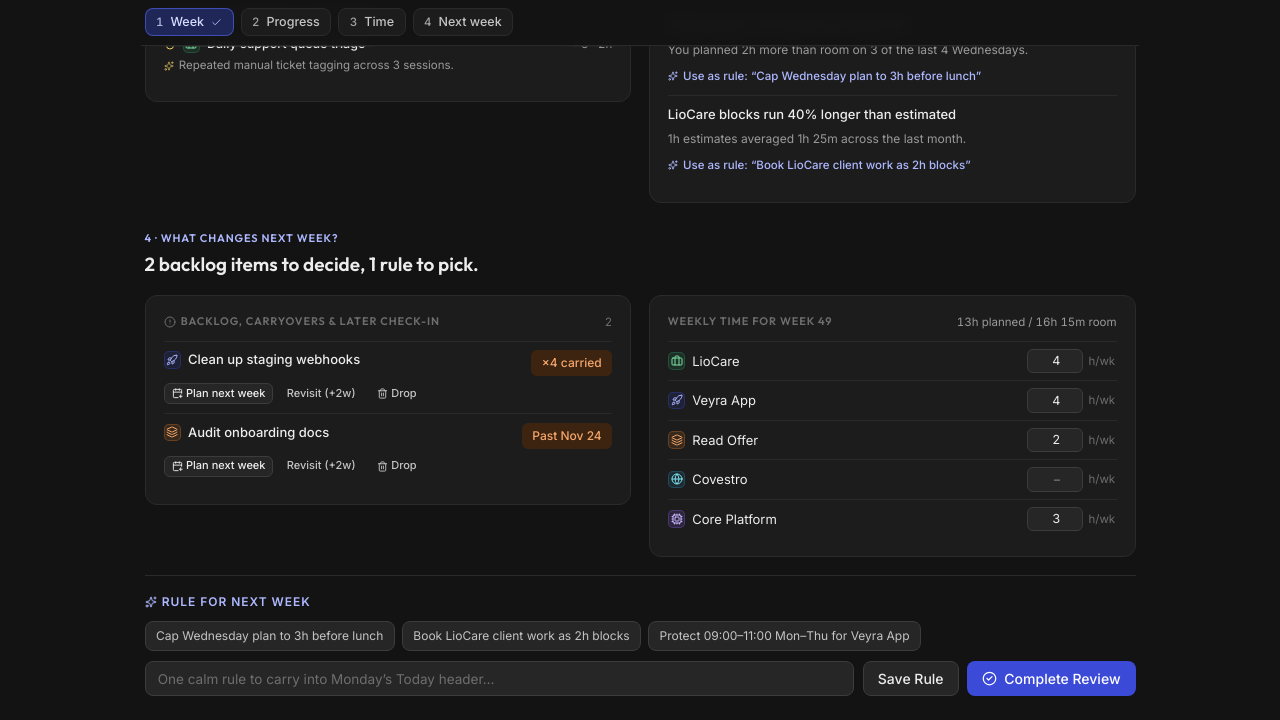
4-chapter ReviewView & Settings review.completed toggle › ReviewView edits next-week project weekly time inline, picks a suggested rule directly on canvas, and completes review into Completed & Auto-Synced state with C
(page scrolled)
Replace the text in the number field named "Weekly time hours for LioCare" with "5": (1055, 361) 1027,349 -> 1083,373
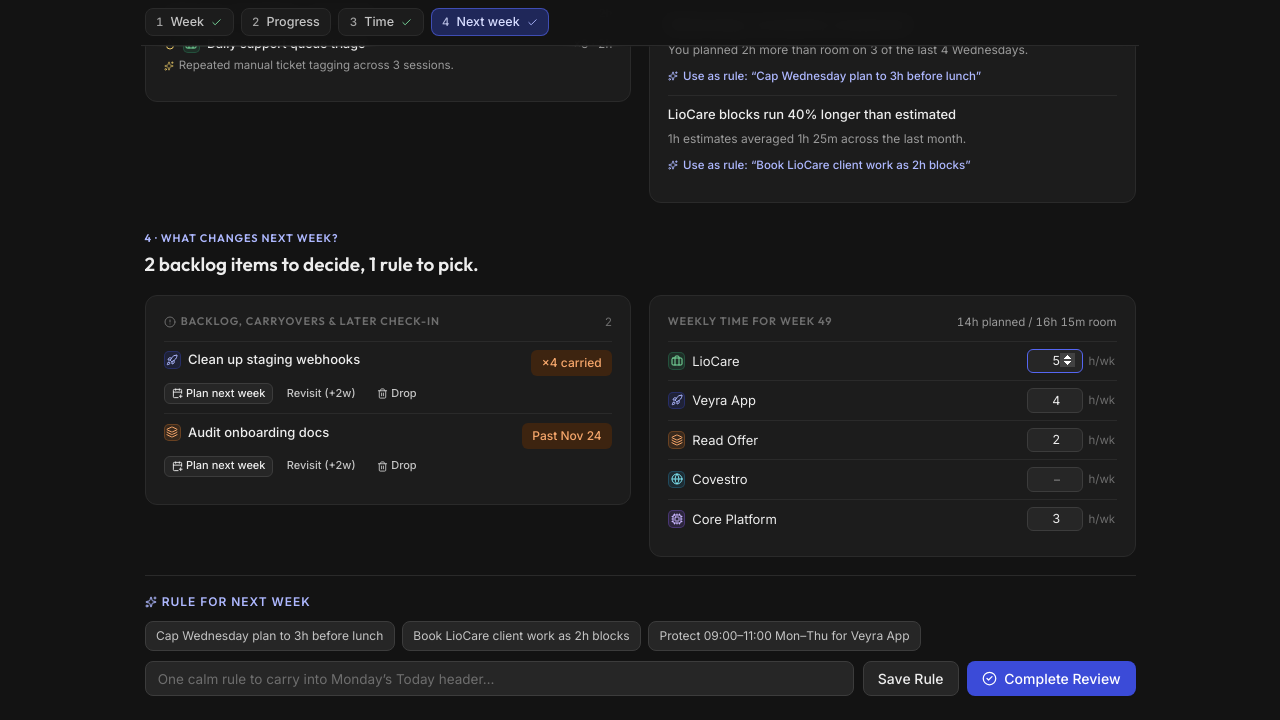
Press Tab
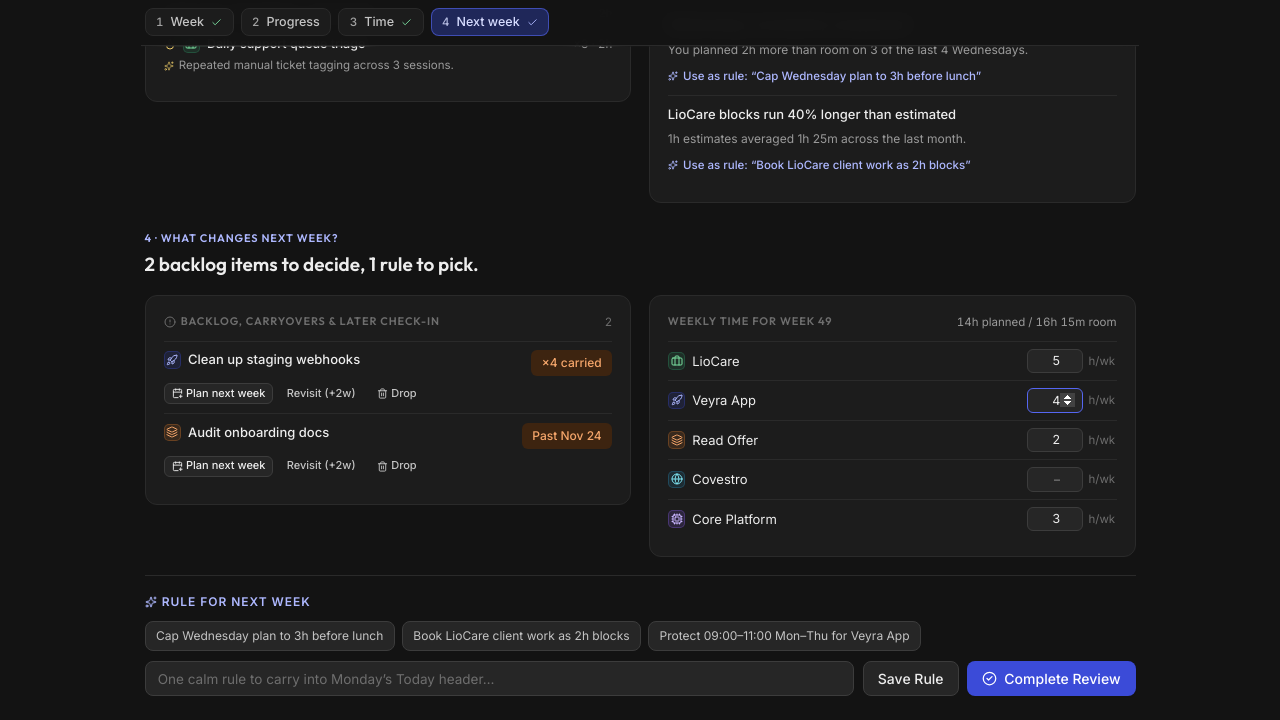
# Pick a suggested rule chip
Click the button "Cap Wednesday plan to 3h before lunch": click(270, 636) 144,621 -> 395,651
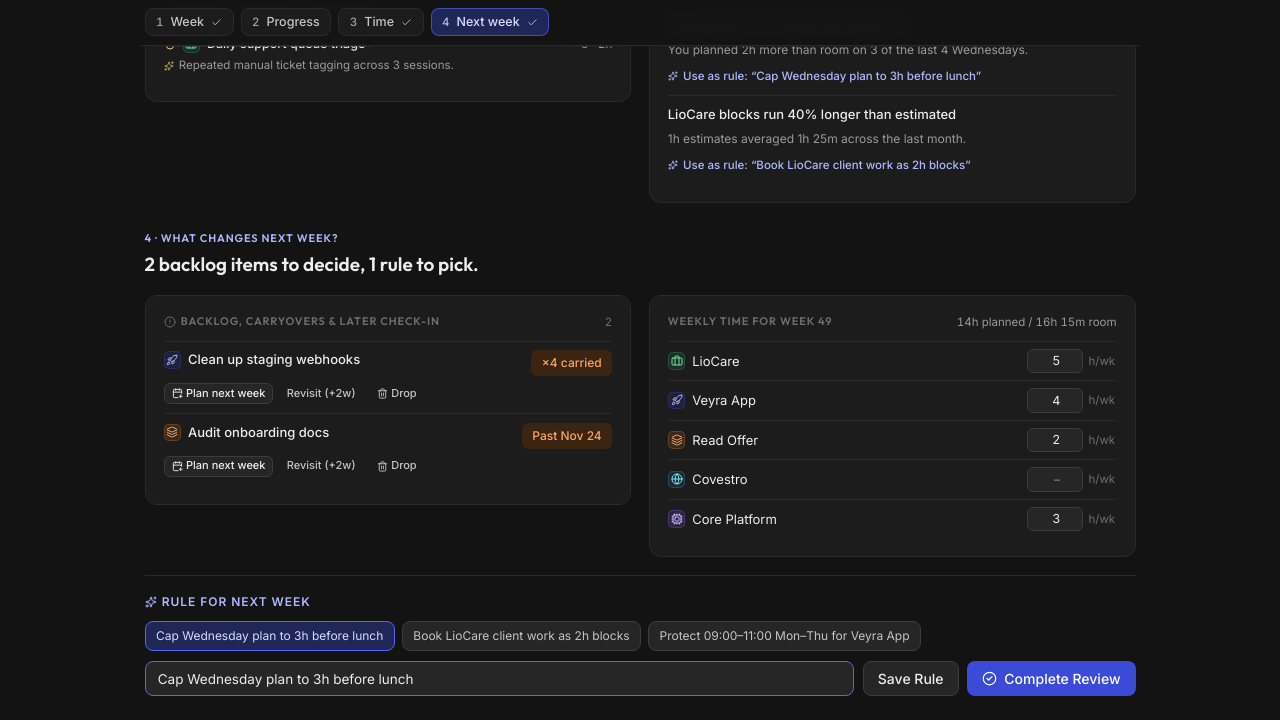
Expected: the field labelled "Rule for next week" holds "Cap Wednesday plan to 3h before lunch", 144,662 -> 854,696
Click the button "Complete Review": click(1051, 679) 967,662 -> 1136,696
(page scrolled)
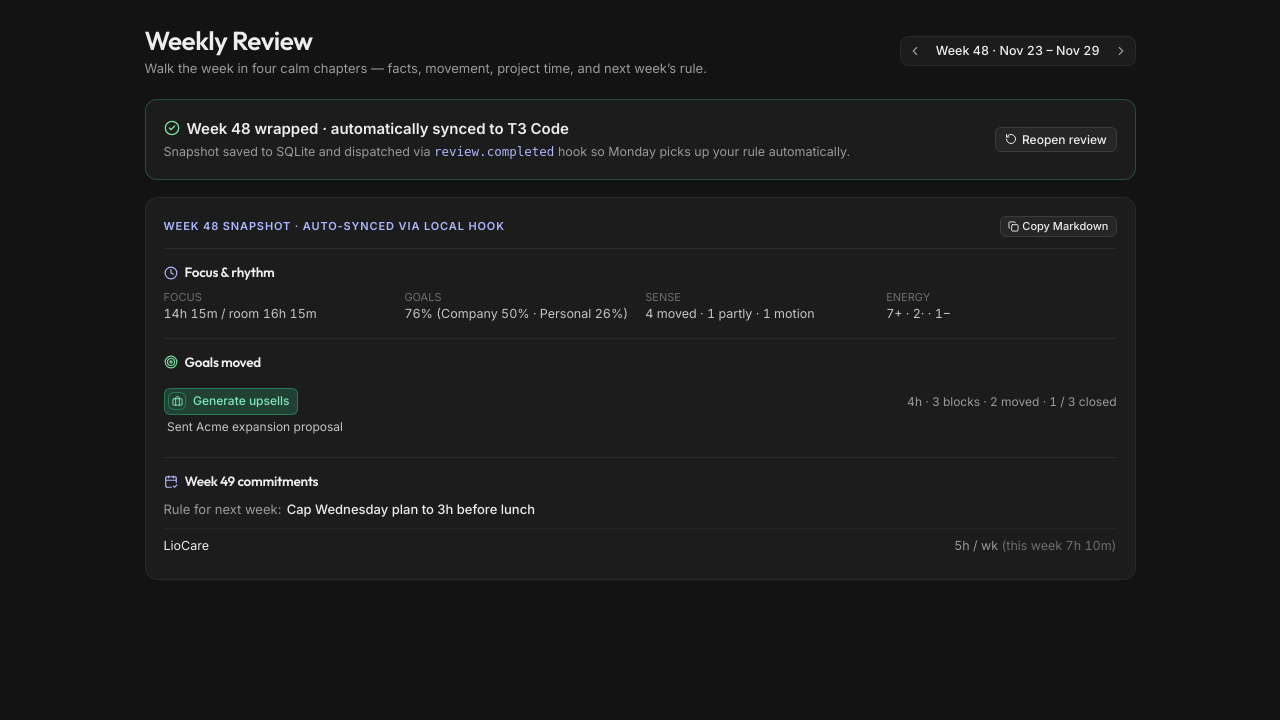
Expected: the text "Week 48 wrapped · automatically synced to T3 Code" is shown, 186,118 -> 569,139
Expected: the text "WEEK 48 SNAPSHOT · AUTO-SYNCED VIA LOCAL HOOK" is shown, 164,219 -> 505,235
Expected: the text "Focus & rhythm" is shown, 184,263 -> 274,283
# Copy Markdown copies structured snapshot
Click the button "Copy Markdown": click(1058, 227) 1000,216 -> 1116,238
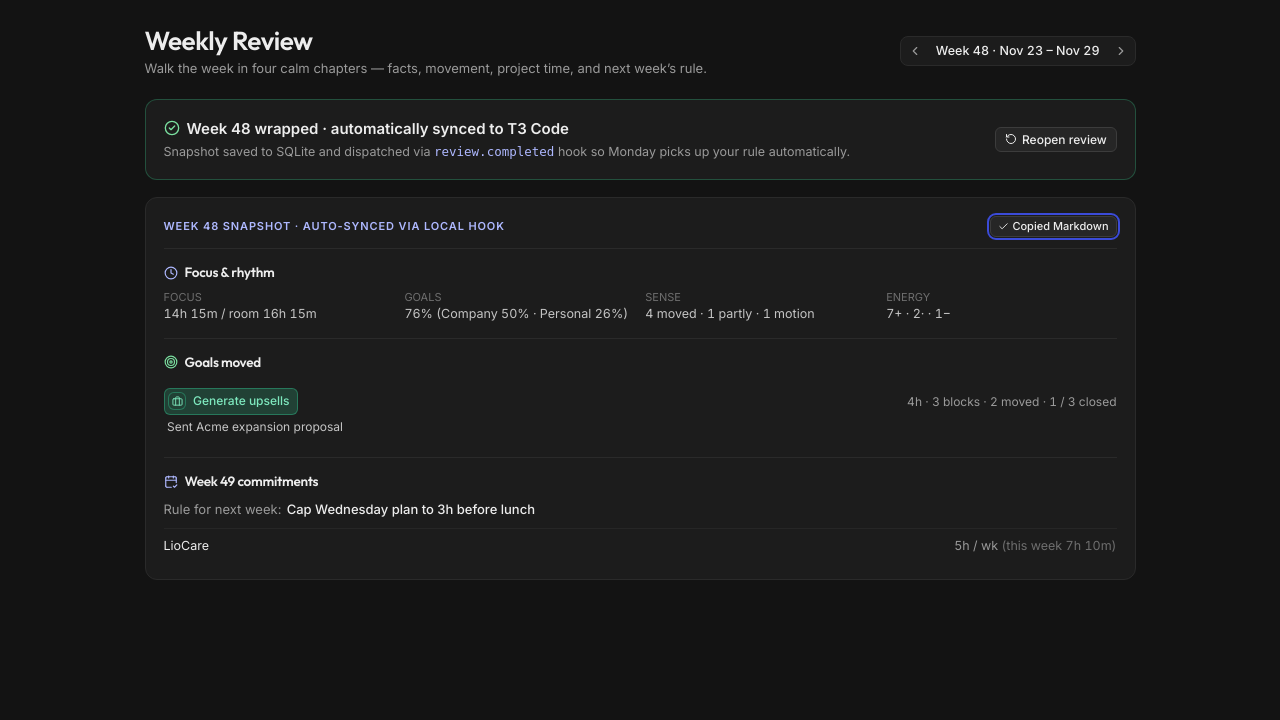
# Reopen review returns to editable 4-chapter view
Click the button "Reopen review": click(1056, 139) 995,127 -> 1116,152
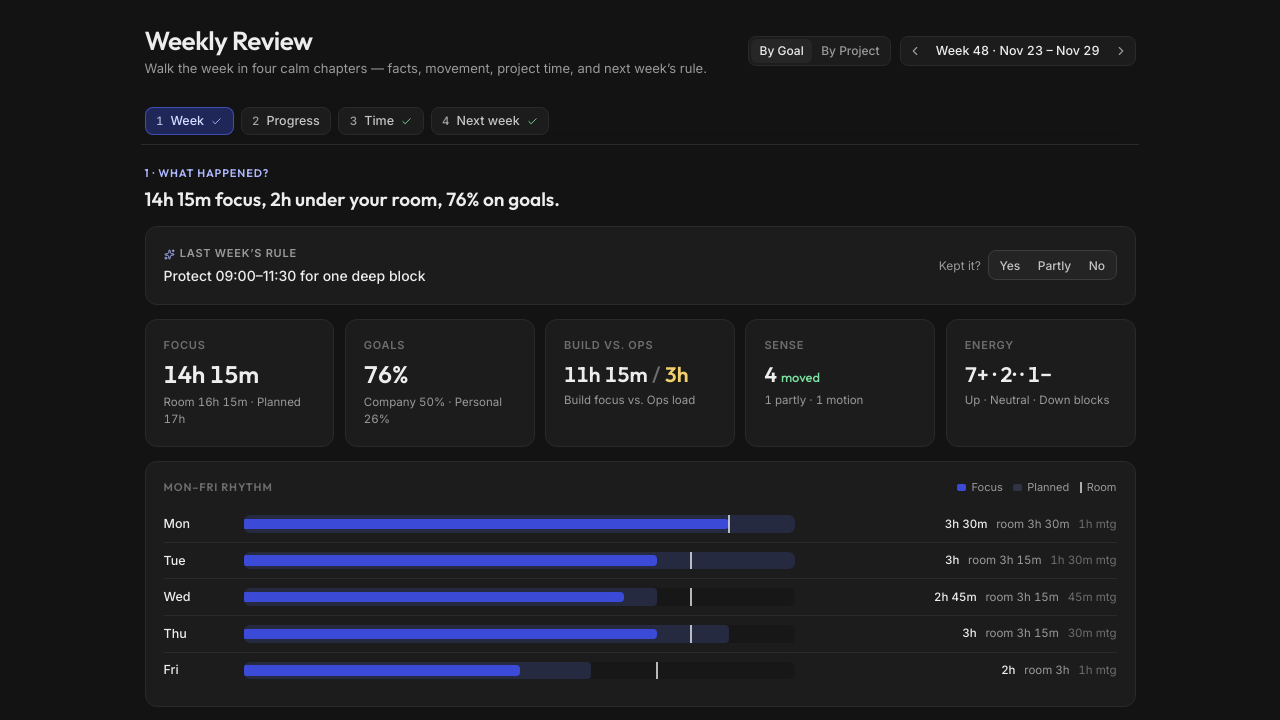
Expected: the heading "1 · What happened?" is shown, 144,166 -> 269,180
